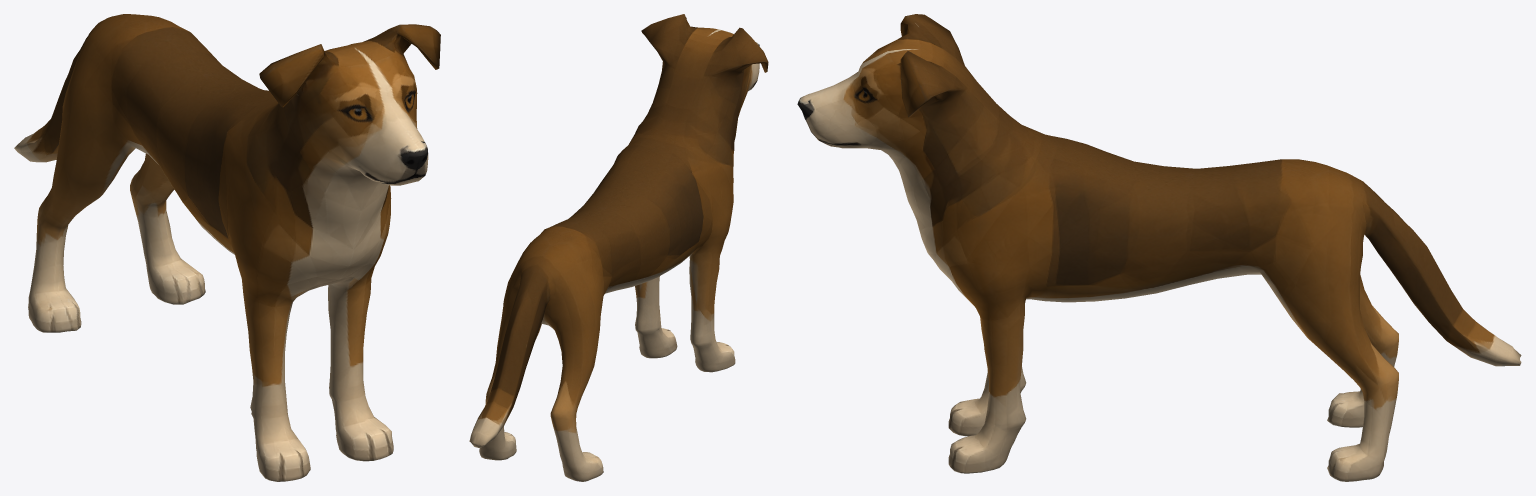
The model's file is dog.glb.
3 renders of one model, left to right at view 1: azimuth 30°, elevation 25°; view 2: azimuth 150°, elevation 25°; view 3: azimuth 270°, elevation 25°, orthographic. The views are drawn at different scales.
Visible parts, largest first — view 1: GOE_village_dog; view 2: GOE_village_dog; view 3: GOE_village_dog.
Boxes of the visible parts, x1,y1,x2,y2 form: GOE_village_dog: (14, 14, 440, 481); GOE_village_dog: (469, 14, 768, 481); GOE_village_dog: (797, 14, 1521, 481).
Bounding box in the file's own units: 0.2624 × 0.6281 × 1.
1 material, 1 textured.
